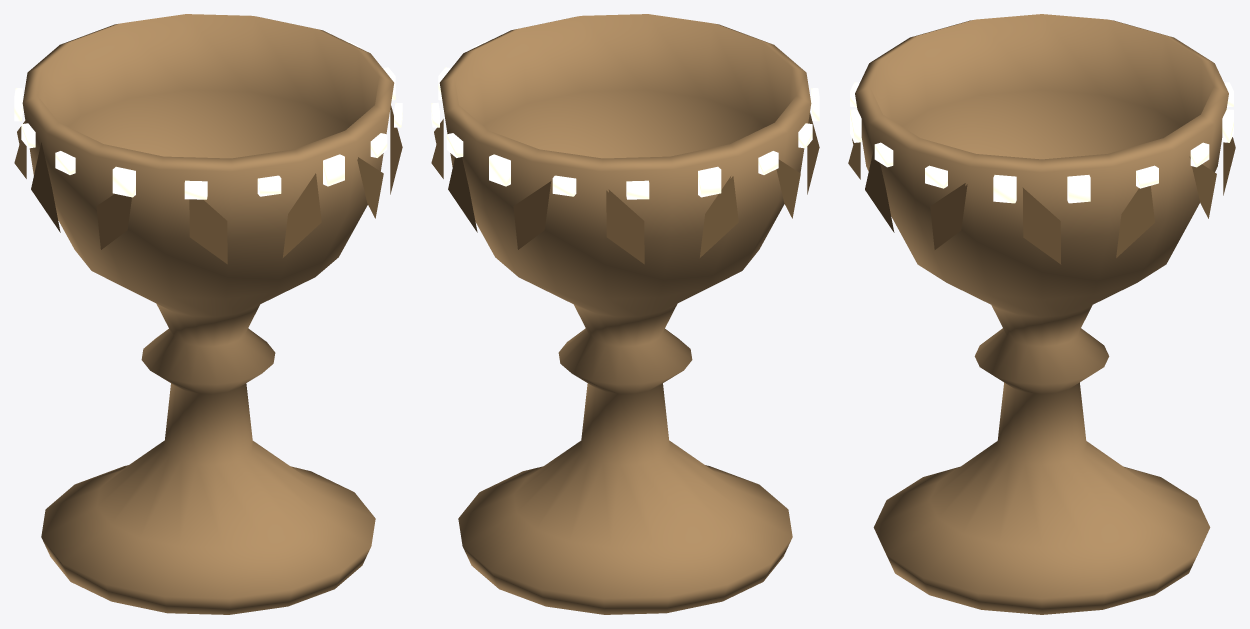
Rendered from Caliz.glb.
3 views of the same model, side by side, from view 1: azimuth 30°, elevation 25°; view 2: azimuth 150°, elevation 25°; view 3: azimuth 270°, elevation 25° (orthographic).
Visible parts, largest first — view 1: Caliz; view 2: Caliz; view 3: Caliz.
Part boxes in pixels (x1,y1,x2,y2): Caliz: (14,14,402,614); Caliz: (431,14,819,614); Caliz: (848,14,1235,614).
Bounding box in the file's own units: 0.2072 × 0.272 × 0.2072.
